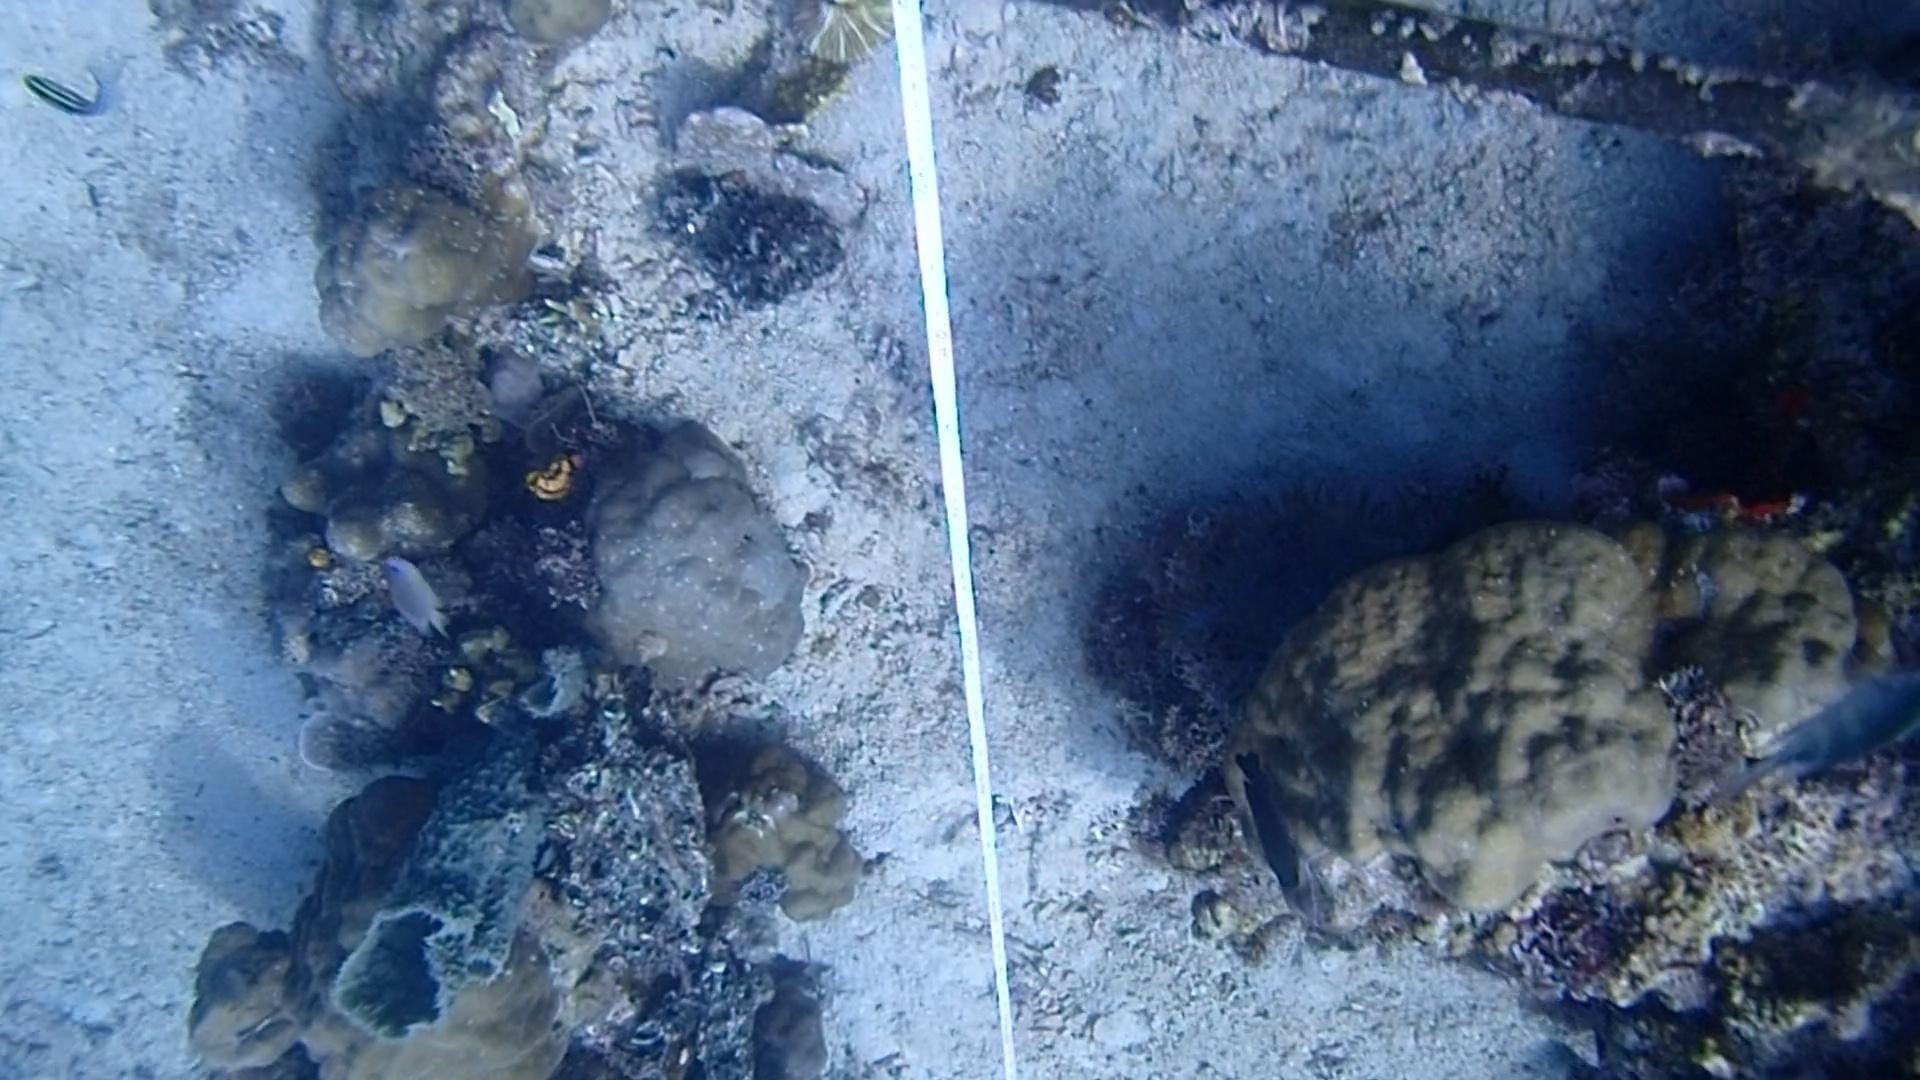Blue Fish: (1753, 647, 1917, 796)
Blue Nose Fish: (380, 551, 455, 654)
Dark Fish: (1213, 745, 1316, 901)
Striped Fish: (20, 59, 128, 138)
